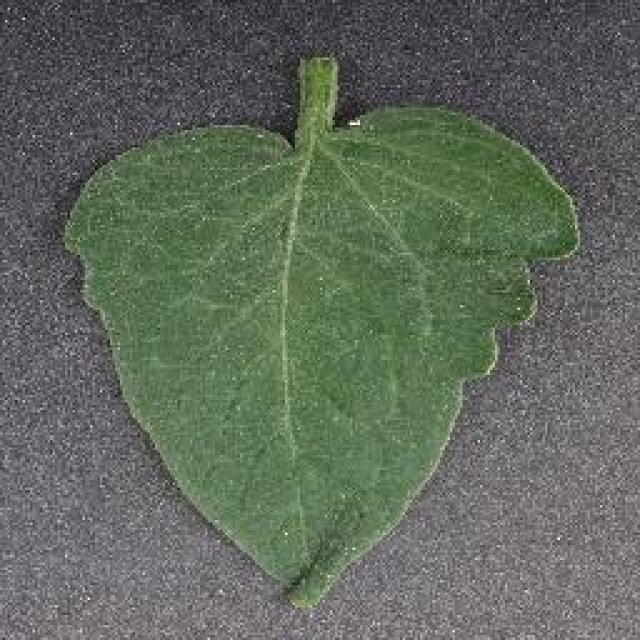Tomato___healthy: (60, 53, 581, 611)
